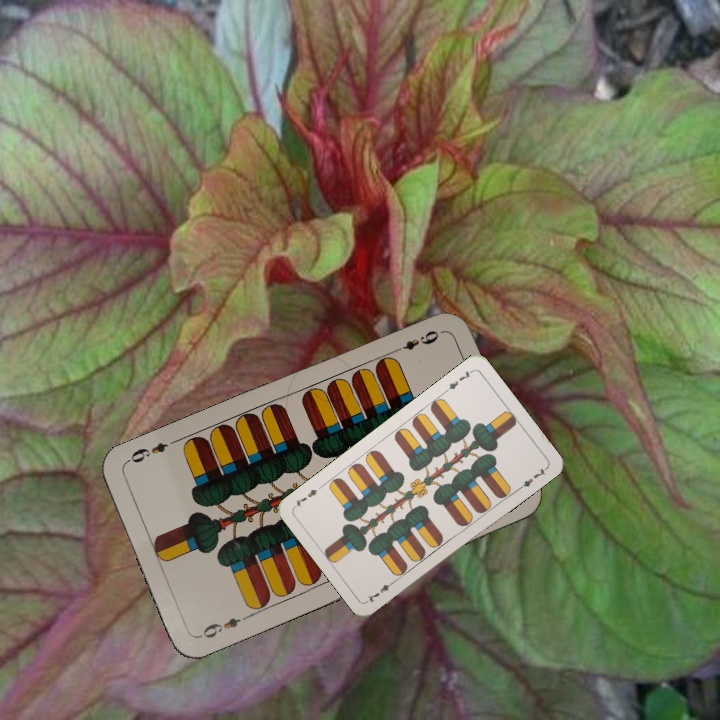E7: (363, 576, 399, 605), (440, 366, 475, 395)
E9: (195, 611, 252, 641), (390, 326, 442, 355)
